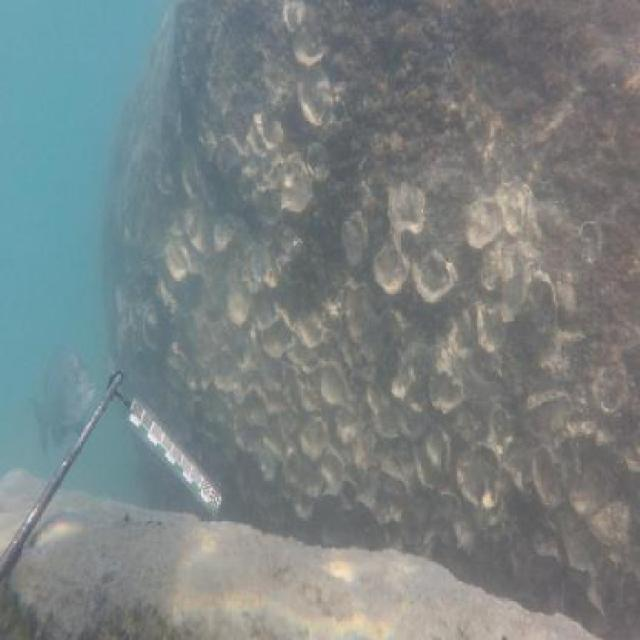acanthopagrus_palmaris: (30, 343, 93, 451)
